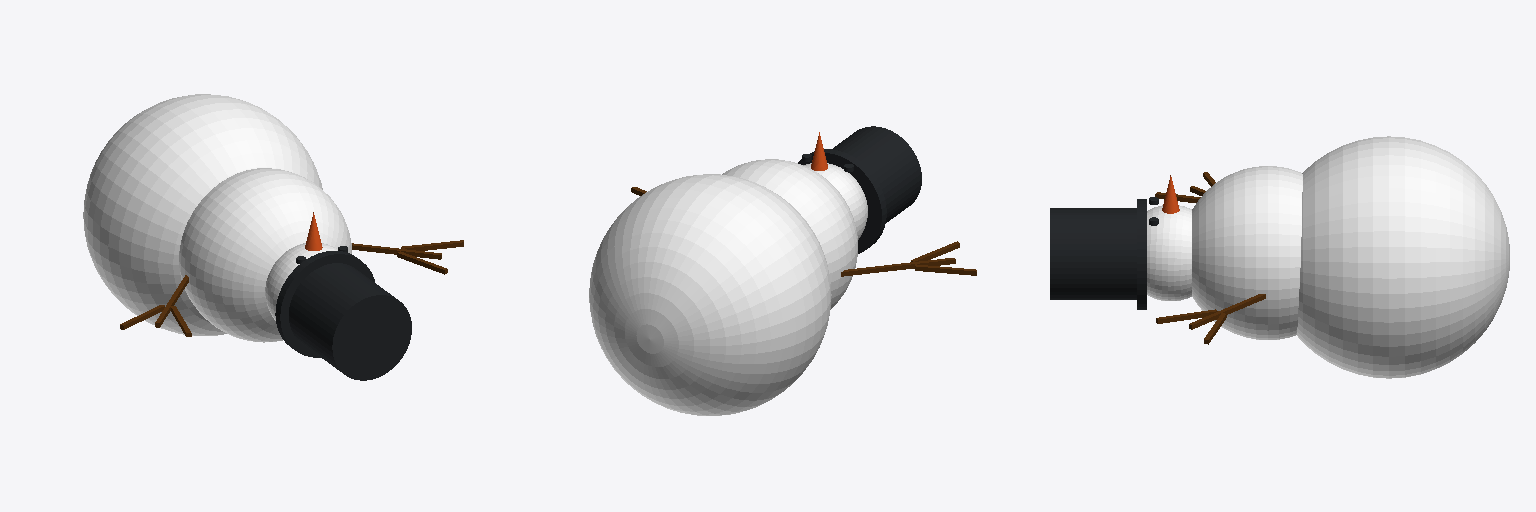
File: tinker.obj
The picture shows the model from 3 angles: view 1: azimuth 30°, elevation 25°; view 2: azimuth 150°, elevation 25°; view 3: azimuth 270°, elevation 25°; orthographic projection.
Visible parts, largest first — view 1: obj_0, obj_1, obj_5, obj_2, obj_8, obj_7; view 2: obj_0, obj_1, obj_5, obj_7, obj_2; view 3: obj_0, obj_1, obj_5, obj_2, obj_8.
Boxes of the visible parts, x1,y1,x2,y2 form: obj_0: [83, 94, 322, 335]; obj_1: [179, 168, 351, 342]; obj_5: [275, 251, 411, 380]; obj_2: [265, 243, 337, 320]; obj_8: [352, 240, 463, 274]; obj_7: [120, 275, 191, 336]; obj_0: [589, 174, 831, 415]; obj_1: [722, 159, 857, 309]; obj_5: [798, 126, 921, 253]; obj_7: [841, 241, 976, 276]; obj_2: [803, 163, 867, 239]; obj_0: [1297, 136, 1509, 378]; obj_1: [1192, 166, 1302, 339]; obj_5: [1050, 199, 1146, 309]; obj_2: [1147, 205, 1191, 300]; obj_8: [1156, 294, 1265, 344].
Size of the model in its own units: 82.14 by 50 by 95.